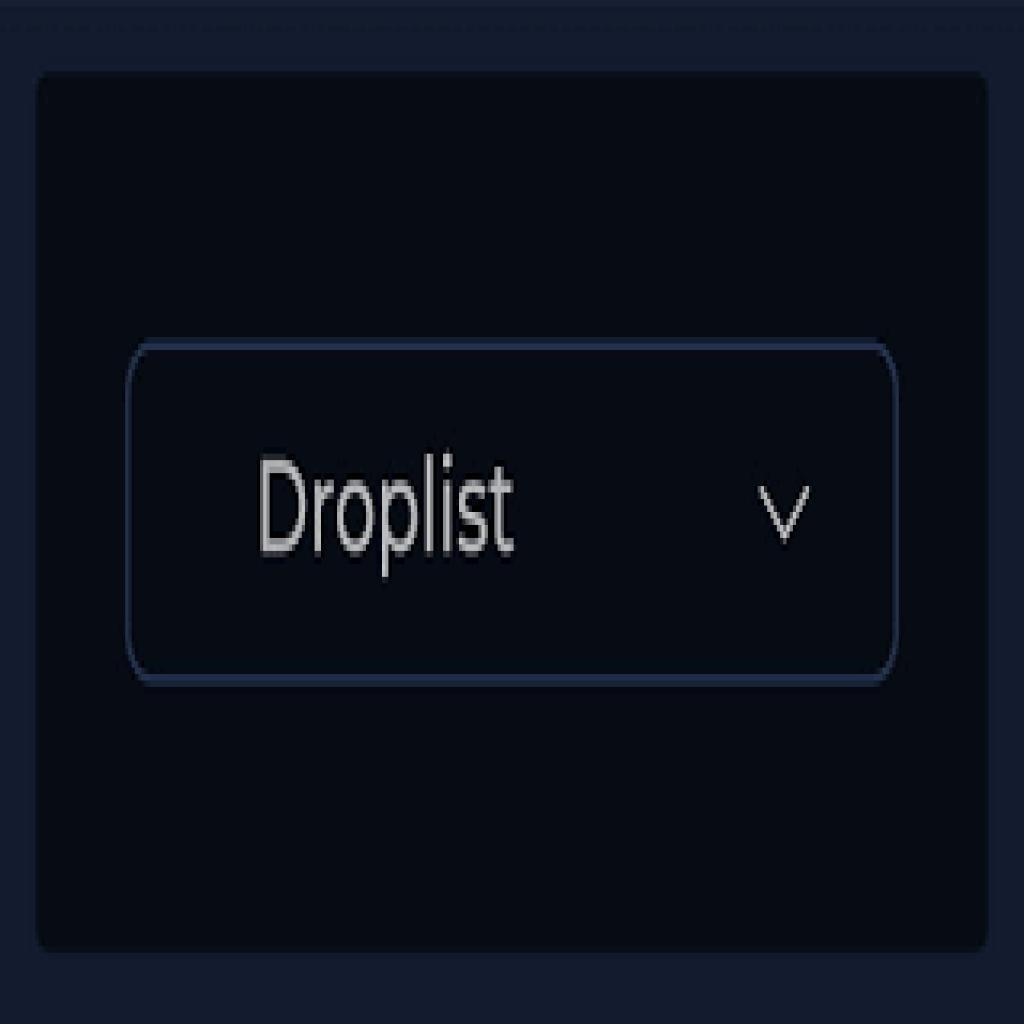dropdown: (130, 337, 898, 683)
